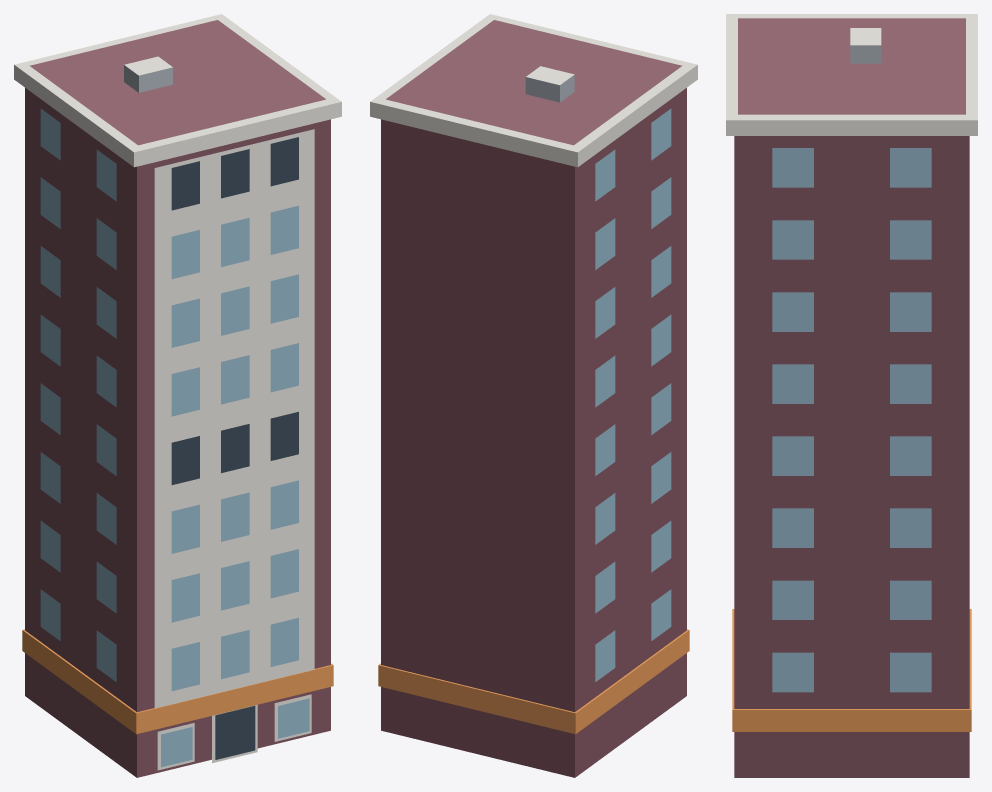
Rendered from B_TowerMauve.fbx.
3 renders of one model, left to right at view 1: azimuth 30°, elevation 25°; view 2: azimuth 150°, elevation 25°; view 3: azimuth 270°, elevation 25°, orthographic. The views are drawn at different scales.
Visible parts, largest first — view 1: B_TowerMauve.001; view 2: B_TowerMauve.001; view 3: B_TowerMauve.001.
Boxes of the visible parts, bbox=[...] form: B_TowerMauve.001: bbox=[14, 14, 341, 777]; B_TowerMauve.001: bbox=[370, 14, 697, 777]; B_TowerMauve.001: bbox=[726, 14, 977, 777].
Size of the model in its own units: 3.64 by 10.9 by 3.64.
